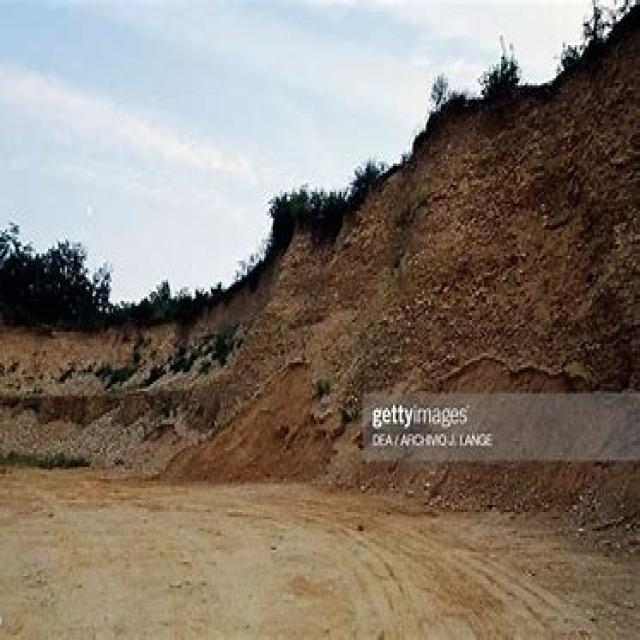Alluvial Soil: (6, 348, 357, 631)
